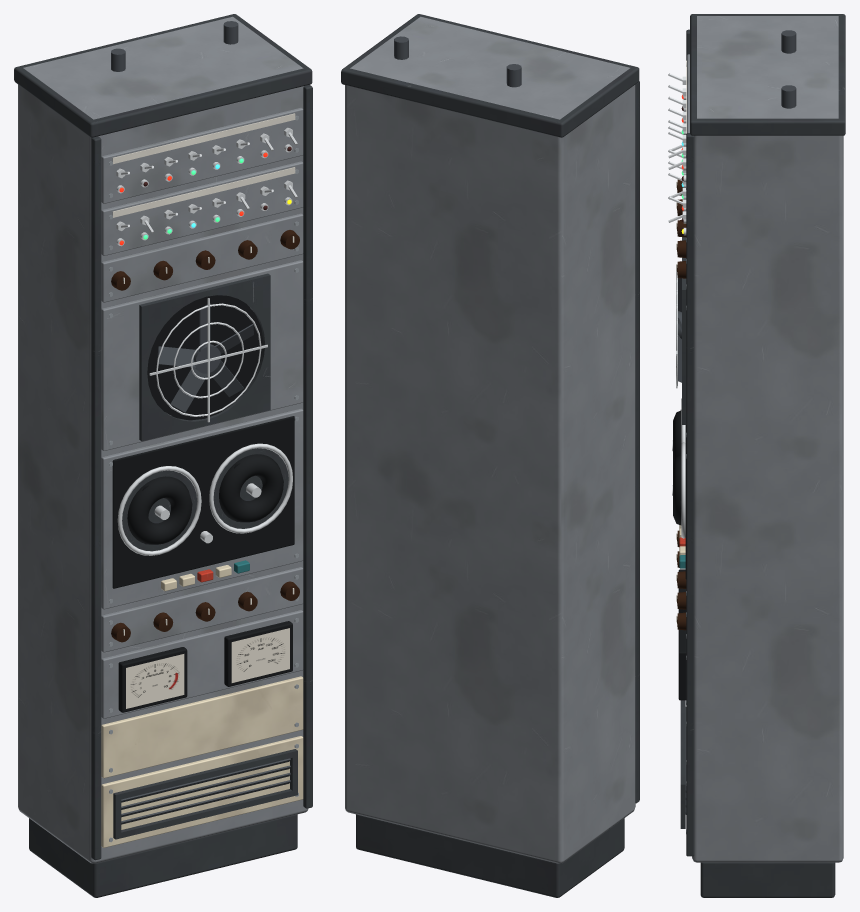
File: Rack_60_4.glb
3 renders of one model, left to right at view 1: azimuth 30°, elevation 25°; view 2: azimuth 150°, elevation 25°; view 3: azimuth 270°, elevation 25°, orthographic.
Visible parts, largest first — view 1: Rack_60_4_Body; view 2: Rack_60_4_Body; view 3: Rack_60_4_Body.
Part boxes in pixels (x1=…): Rack_60_4_Body: x1=14, y1=14, x2=312, y2=897; Rack_60_4_Body: x1=341, y1=14, x2=639, y2=897; Rack_60_4_Body: x1=668, y1=14, x2=845, y2=897.
Bounding box in the file's own units: 0.61 × 2.1 × 0.4216.
19 materials, 8 textured.
